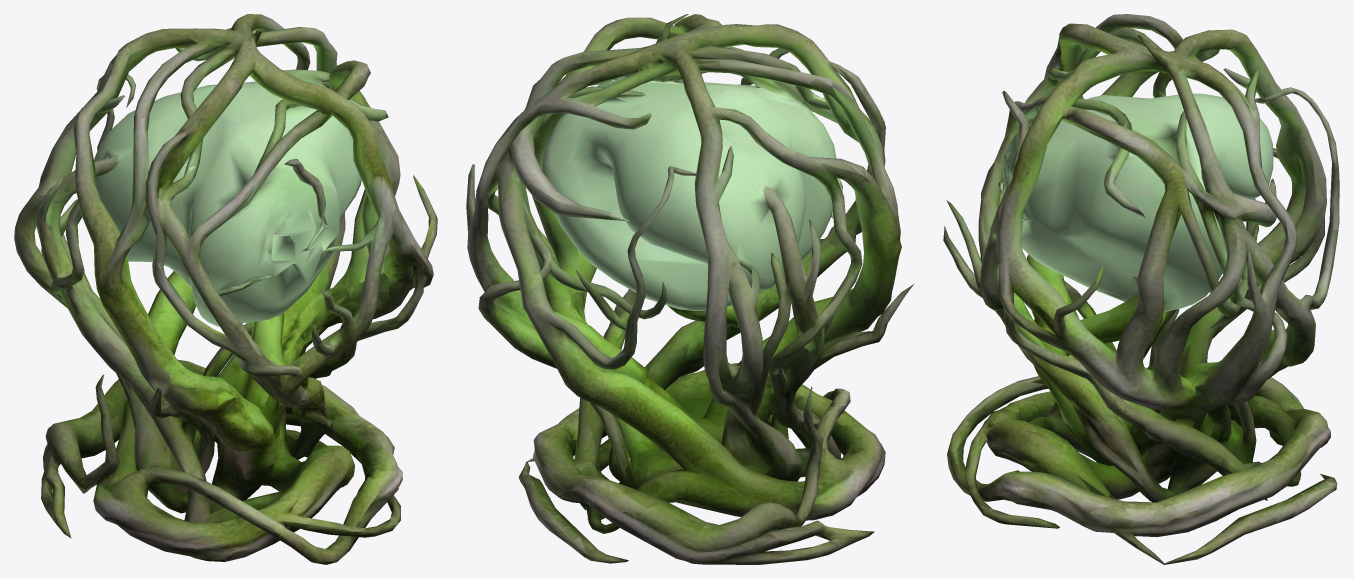
Rendered from fab_prop_2.glb.
The picture shows the model from 3 angles, left to right: view 1: azimuth 30°, elevation 25°; view 2: azimuth 150°, elevation 25°; view 3: azimuth 270°, elevation 25°; orthographic projection. The views are drawn at different scales.
Parts seen in each view (by area): view 1: mesh_2; view 2: mesh_2; view 3: mesh_2.
Part boxes in pixels (bbox=[...]): mesh_2: bbox=[14, 14, 437, 564]; mesh_2: bbox=[466, 14, 913, 564]; mesh_2: bbox=[943, 14, 1339, 564].
Bounding box in the file's own units: 0.7442 × 0.9612 × 0.747.
Materials: 1 (1 with a texture image).
